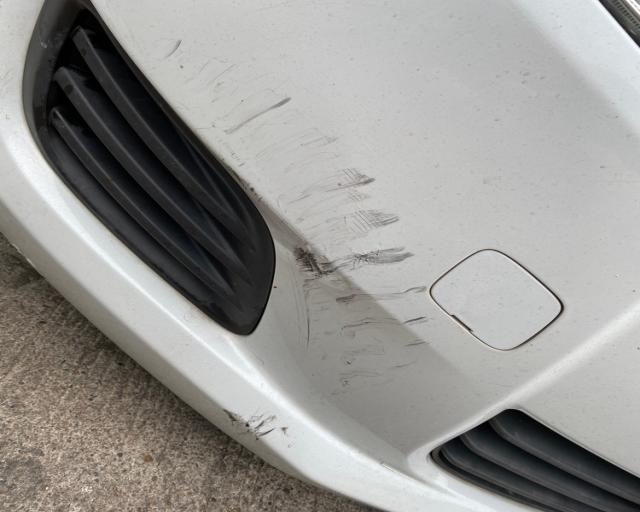scratch: (162, 35, 449, 400), (221, 411, 284, 440)
